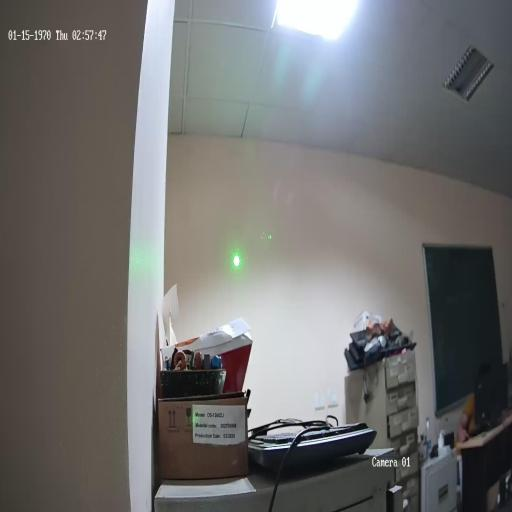laser: (230, 250, 242, 271)
